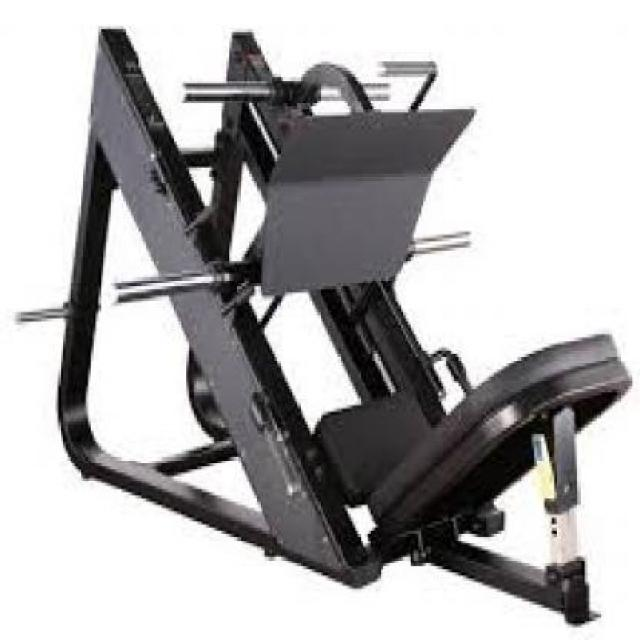leg press: (15, 14, 636, 631)
